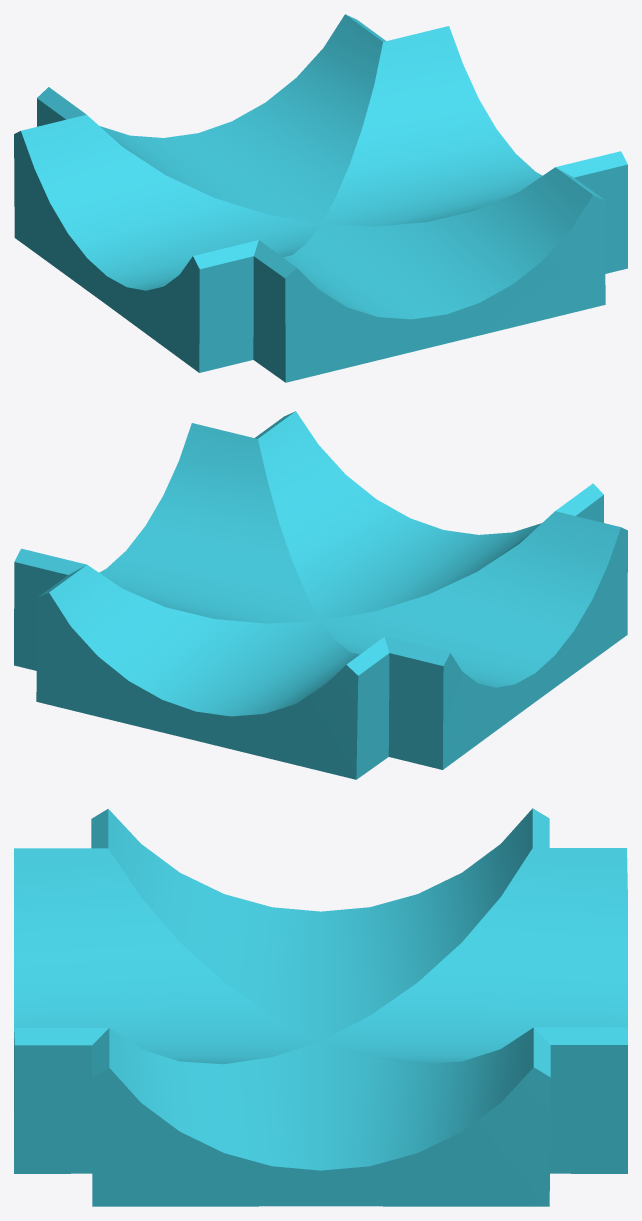
Rendered from RoundCorr_UnderFloor_XType_A.FBX.
The picture shows the model from 3 angles, top to bottom: view 1: azimuth 30°, elevation 25°; view 2: azimuth 150°, elevation 25°; view 3: azimuth 270°, elevation 25°; orthographic projection. The views are drawn at different scales.
Parts seen in each view (by area): view 1: RoundCorr_UnderFloor_XType_A; view 2: RoundCorr_UnderFloor_XType_A; view 3: RoundCorr_UnderFloor_XType_A.
Boxes of the visible parts, <box> form: RoundCorr_UnderFloor_XType_A: <box>14,14,627,382</box>; RoundCorr_UnderFloor_XType_A: <box>14,411,627,779</box>; RoundCorr_UnderFloor_XType_A: <box>14,808,627,1206</box>.
Size of the model in its own units: 600 by 150 by 600.
